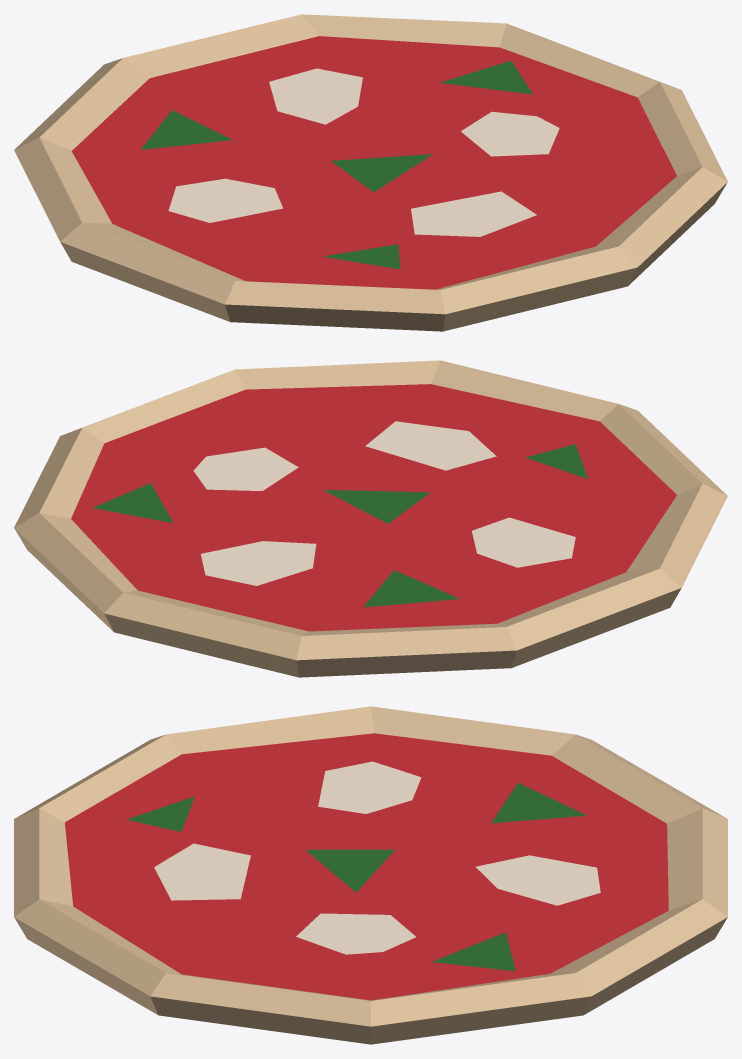
File: pizza-mozzarella.glb
The picture shows the model from 3 angles, top to bottom: view 1: azimuth 30°, elevation 25°; view 2: azimuth 150°, elevation 25°; view 3: azimuth 270°, elevation 25°; orthographic projection. The views are drawn at different scales.
Parts seen in each view (by area): view 1: pizza-mozzarella; view 2: pizza-mozzarella; view 3: pizza-mozzarella.
Part boxes in pixels (x1=…): pizza-mozzarella: x1=14, y1=14, x2=727, y2=331; pizza-mozzarella: x1=14, y1=360, x2=727, y2=677; pizza-mozzarella: x1=14, y1=706, x2=727, y2=1044.
Bounding box in the file's own units: 0.4 × 0.0225 × 0.3804.
Materials: 1 (1 with a texture image).
